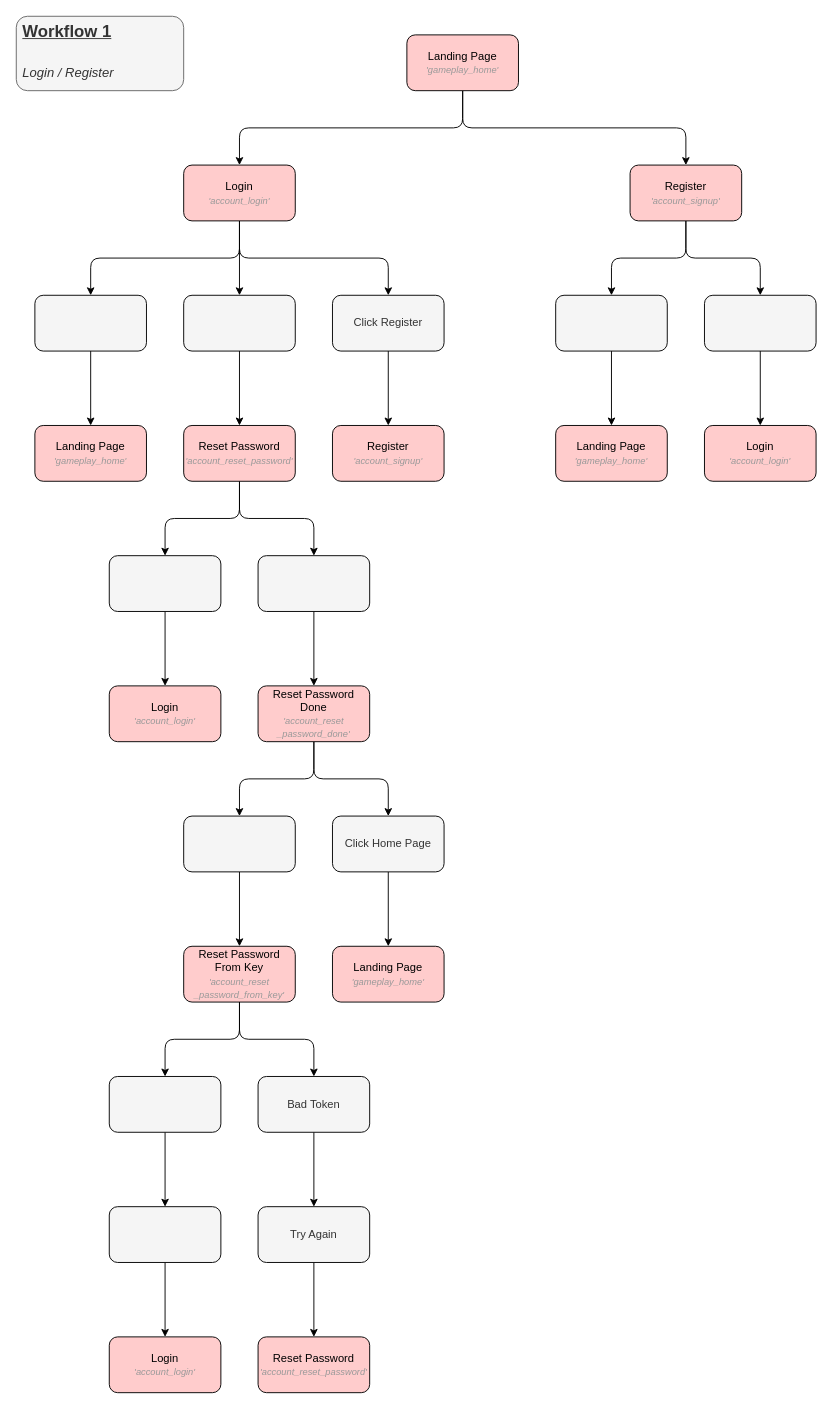
Some shapes in this 832 by 1409 pixel diagram are drawn without their labels. The shapes that lost their labels are listed below. From the top down, each one's box as (x1, y1, x2, y2) in pixels, then its label:
(34, 294, 146, 351): Login Success
(183, 294, 295, 351): Click Forgot Password
(555, 294, 667, 351): Register Success
(704, 294, 816, 351): Click Login
(108, 555, 221, 611): Click Cancel
(257, 555, 370, 611): Send Reset Email
(183, 815, 295, 872): Click Link in Email
(108, 1076, 221, 1132): Good Token
(108, 1206, 221, 1262): Enter New Password
